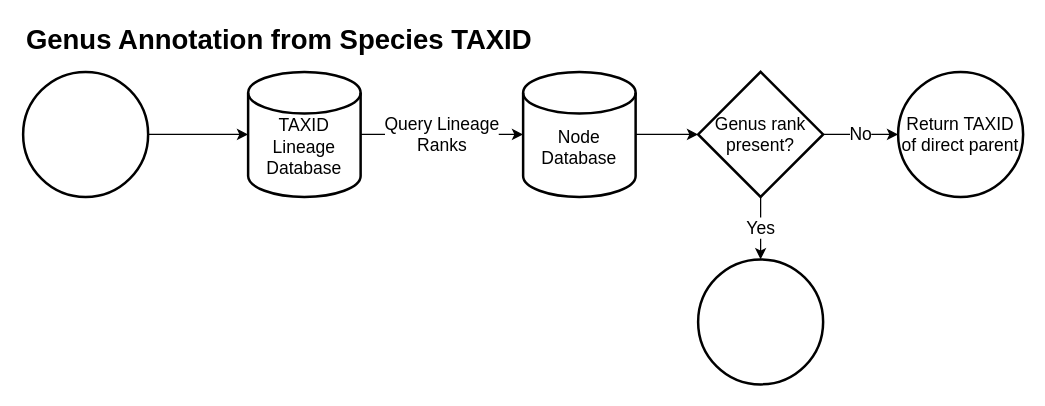
This 1045x406 diagram has some shape labels left out. Each missing label, with the centre of its shape:
"Return TAXID of genus rank" belongs at pixel 760 321.
"Start: Annotated Scientific Names" belongs at pixel 85 134.
